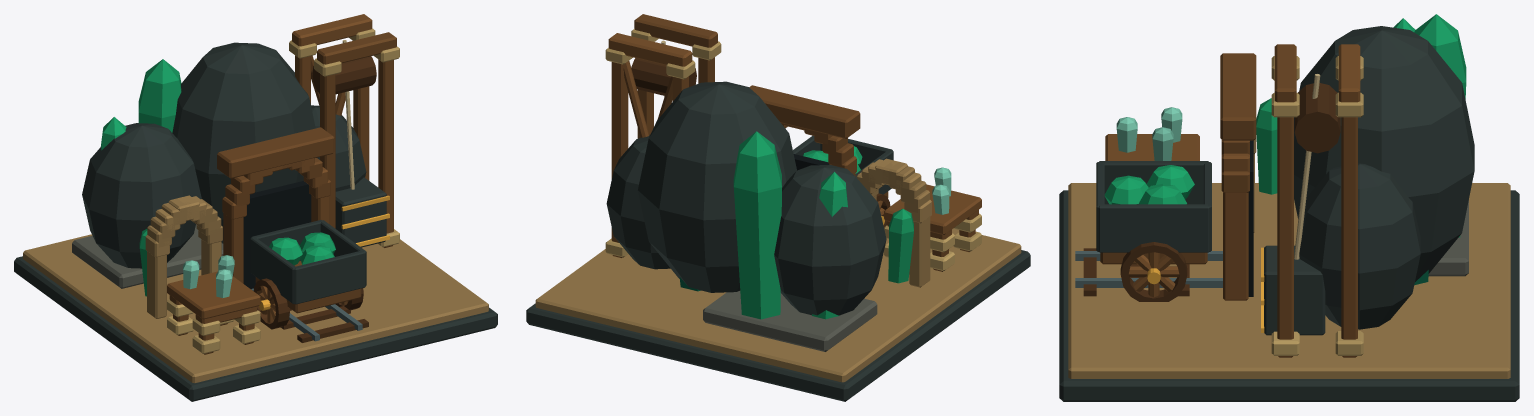
The picture shows the model from 3 angles, left to right: view 1: azimuth 30°, elevation 25°; view 2: azimuth 150°, elevation 25°; view 3: azimuth 270°, elevation 25°; orthographic projection. The views are drawn at different scales.
Visible parts, largest first — view 1: gem_mine_5_structure, gem_mine_5_metal; view 2: gem_mine_5_structure; view 3: gem_mine_5_structure, gem_mine_5_metal.
Part boxes in pixels (x1,y1,x2,y2): gem_mine_5_structure: [14, 14, 497, 401]; gem_mine_5_metal: [259, 195, 389, 310]; gem_mine_5_structure: [526, 14, 1030, 401]; gem_mine_5_structure: [1059, 14, 1519, 401]; gem_mine_5_metal: [1147, 247, 1264, 332].
Bounding box in the file's own units: 3.6 × 2.62 × 3.6.
